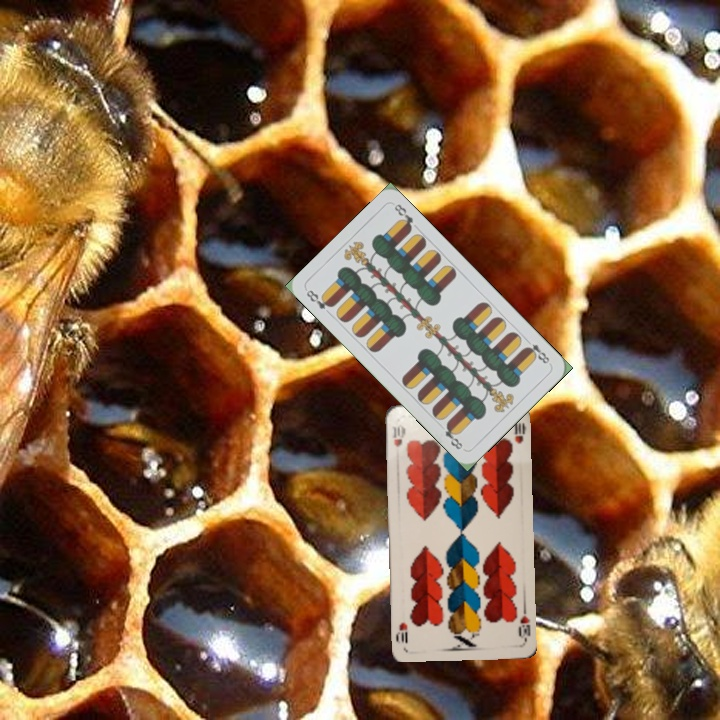E8: (521, 334, 552, 366), (302, 286, 336, 312)
H10: (515, 612, 533, 644), (388, 420, 407, 450)
